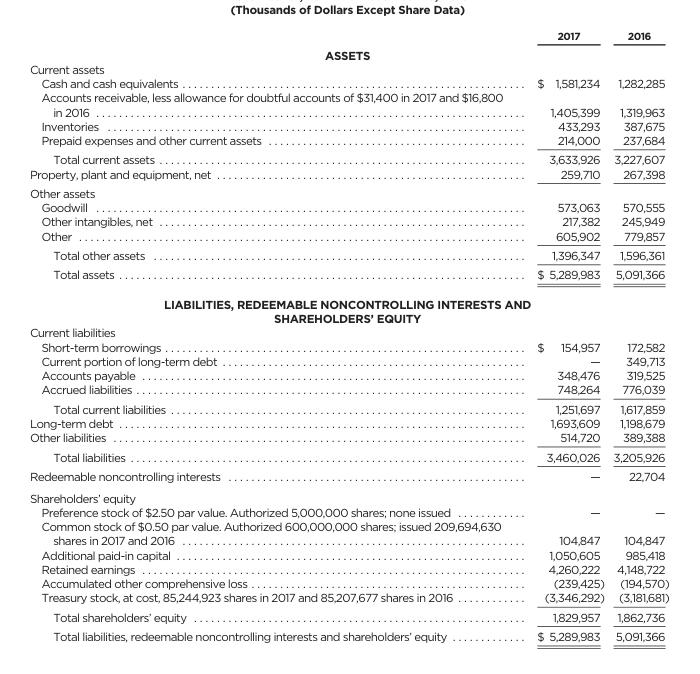table: (28, 29, 668, 642)
table column: (28, 29, 519, 642), (519, 29, 608, 642), (608, 29, 668, 642)
table column header: (28, 29, 668, 44)
table projected row header: (28, 289, 668, 325), (28, 486, 668, 504), (28, 44, 668, 61), (28, 183, 668, 199), (28, 61, 668, 75), (28, 325, 668, 339)
table row: (28, 289, 668, 325), (28, 518, 668, 547), (28, 90, 668, 118), (28, 264, 668, 289), (28, 446, 668, 466), (28, 466, 668, 486), (28, 606, 668, 626), (28, 245, 668, 264), (28, 486, 668, 504), (28, 44, 668, 61), (28, 132, 668, 149), (28, 149, 668, 166), (28, 166, 668, 183), (28, 228, 668, 245), (28, 398, 668, 415), (28, 429, 668, 446), (28, 183, 668, 199), (28, 382, 668, 398), (28, 590, 668, 606), (28, 626, 668, 642), (28, 29, 668, 44), (28, 75, 668, 90), (28, 199, 668, 214), (28, 367, 668, 382), (28, 575, 668, 590), (28, 61, 668, 75), (28, 118, 668, 132), (28, 214, 668, 228), (28, 325, 668, 339), (28, 339, 668, 353), (28, 353, 668, 367), (28, 415, 668, 429), (28, 504, 668, 518), (28, 547, 668, 561), (28, 561, 668, 575)
